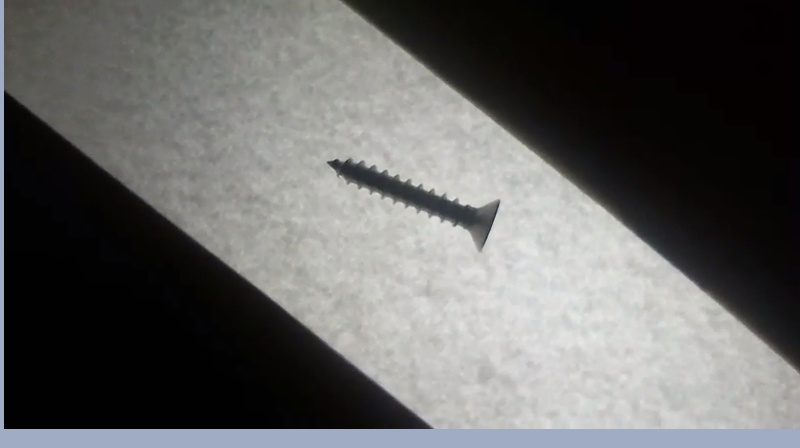S001: (318, 154, 501, 254)
